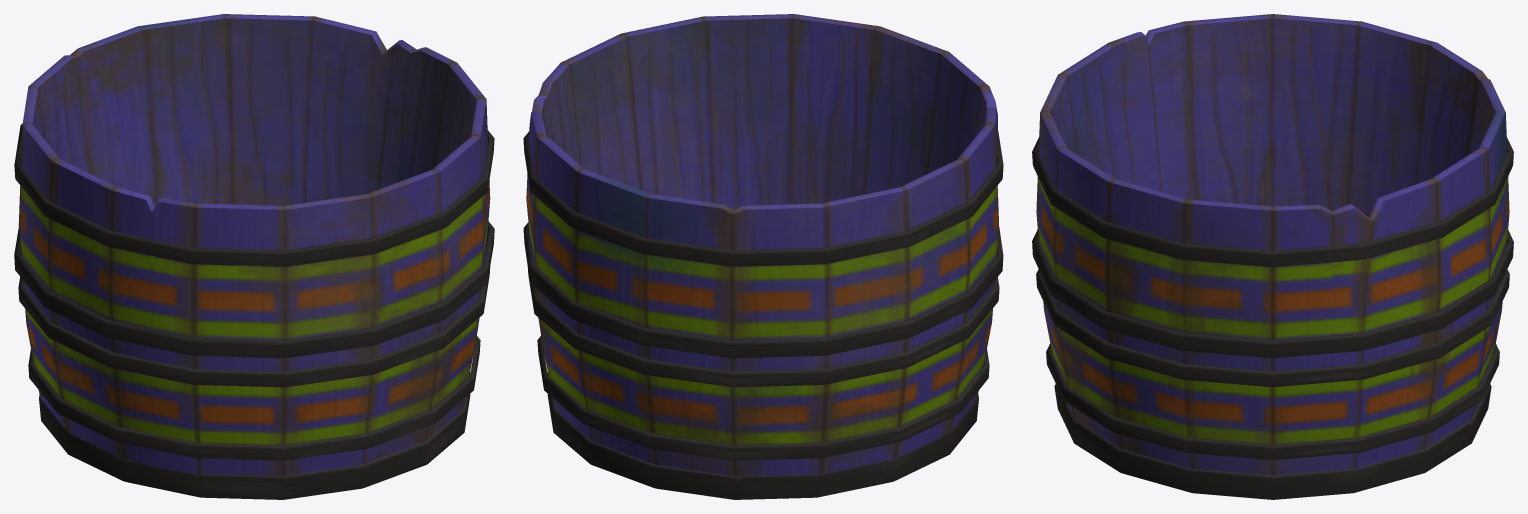
The model's file is HalfBarrel_Purple.fbx.
The picture shows the model from 3 angles, left to right: view 1: azimuth 30°, elevation 25°; view 2: azimuth 150°, elevation 25°; view 3: azimuth 270°, elevation 25°; orthographic projection.
Parts seen in each view (by area): view 1: Barrel7, BarrelRing19, BarrelRing20, BarrelRing17, BarrelRing18, BarrelRing21; view 2: Barrel7, BarrelRing19, BarrelRing20, BarrelRing17, BarrelRing18, BarrelRing21; view 3: Barrel7, BarrelRing19, BarrelRing20, BarrelRing17, BarrelRing18, BarrelRing21.
Boxes of the visible parts, x1=… form: Barrel7: x1=18, y1=14, x2=490, y2=476; BarrelRing19: x1=39, y1=372, x2=470, y2=499; BarrelRing20: x1=14, y1=221, x2=494, y2=358; BarrelRing17: x1=14, y1=123, x2=494, y2=266; BarrelRing18: x1=18, y1=267, x2=490, y2=387; BarrelRing21: x1=28, y1=336, x2=480, y2=460; Barrel7: x1=526, y1=14, x2=998, y2=476; BarrelRing19: x1=547, y1=372, x2=978, y2=499; BarrelRing20: x1=523, y1=222, x2=1003, y2=358; BarrelRing17: x1=523, y1=130, x2=1003, y2=266; BarrelRing18: x1=527, y1=267, x2=999, y2=387; BarrelRing21: x1=537, y1=336, x2=989, y2=460; Barrel7: x1=1036, y1=14, x2=1509, y2=475; BarrelRing19: x1=1054, y1=384, x2=1491, y2=499; BarrelRing20: x1=1032, y1=230, x2=1513, y2=358; BarrelRing17: x1=1032, y1=137, x2=1513, y2=267; BarrelRing18: x1=1036, y1=269, x2=1509, y2=387; BarrelRing21: x1=1046, y1=343, x2=1499, y2=459.
Bounding box in the file's own units: 17.55 × 12.08 × 17.55.
